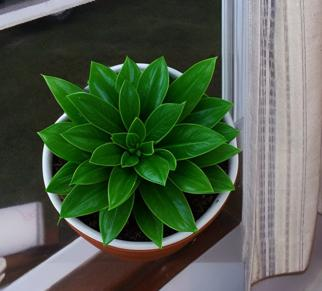pottedplant: (36, 55, 239, 262)
